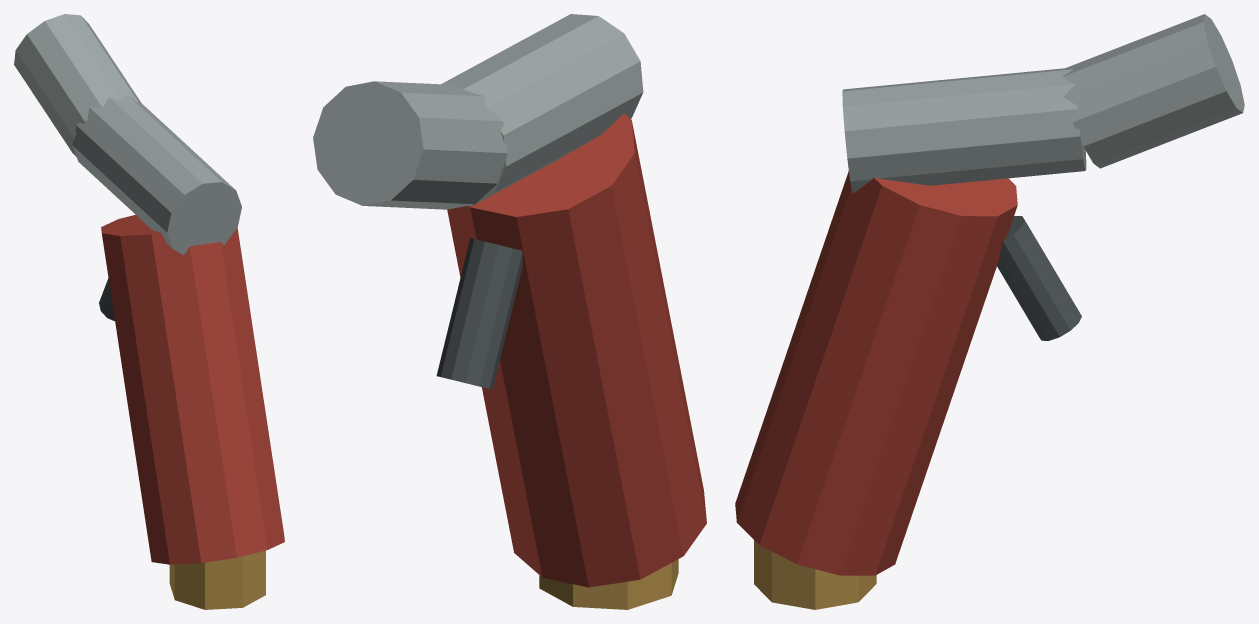
The model's file is TOOL_AirChuck.glb.
The picture shows the model from 3 angles, left to right: view 1: azimuth 30°, elevation 25°; view 2: azimuth 150°, elevation 25°; view 3: azimuth 270°, elevation 25°; orthographic projection. The views are drawn at different scales.
Parts seen in each view (by area): view 1: Grip, Barrel, Coupler, Trigger; view 2: Grip, Barrel, Trigger, Coupler; view 3: Grip, Barrel, Trigger, Coupler.
Boxes of the visible parts, <box> form: Grip: <box>101,214,284,564</box>; Barrel: <box>14,14,241,255</box>; Coupler: <box>169,550,265,609</box>; Trigger: <box>99,278,114,321</box>; Grip: <box>447,113,706,587</box>; Barrel: <box>313,14,643,209</box>; Trigger: <box>436,238,522,389</box>; Coupler: <box>539,559,678,609</box>; Grip: <box>735,171,1017,575</box>; Barrel: <box>842,14,1244,193</box>; Trigger: <box>997,216,1081,340</box>; Coupler: <box>754,540,876,609</box>.
Bounding box in the file's own units: 0.041 × 0.1524 × 0.1246.
